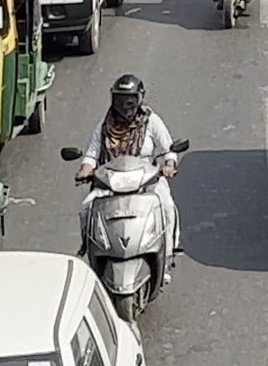BikeWithRider: (56, 71, 194, 324)
Helmet: (107, 72, 148, 118)
